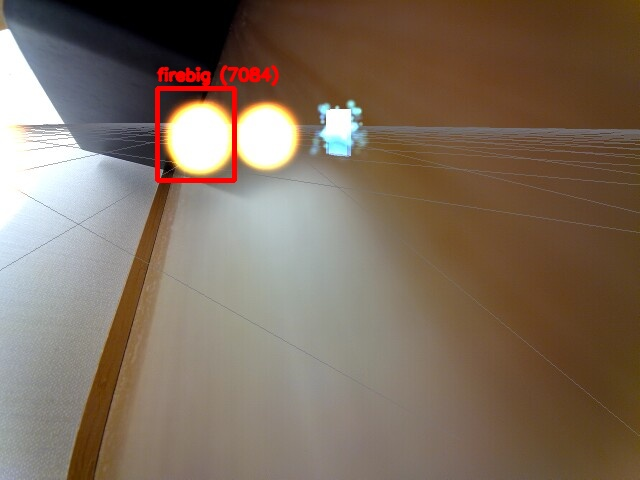firebig: (157, 88, 234, 180)
